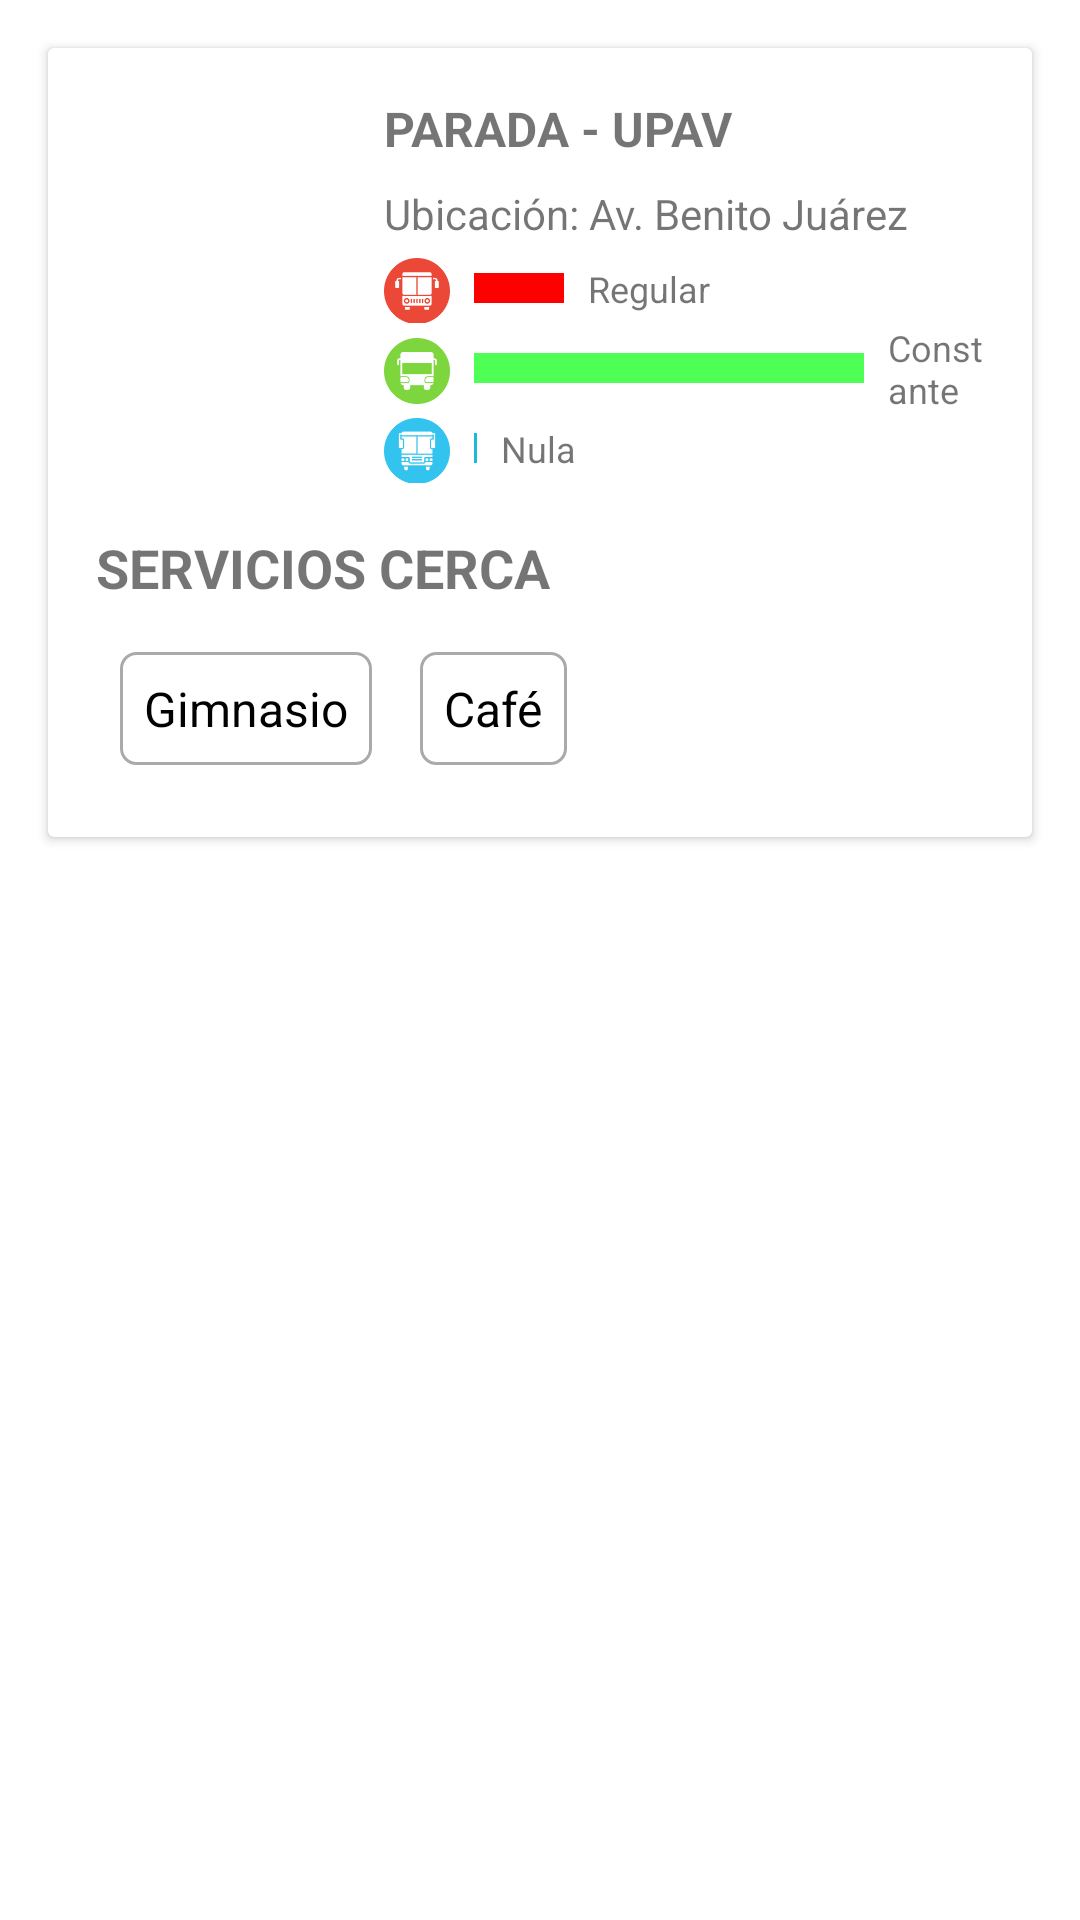

Screen size 1080*1920. Icon name, then its center in pixels as point (x, y):
azules: point (417, 450)
rojas: point (417, 290)
verdes: point (417, 371)
